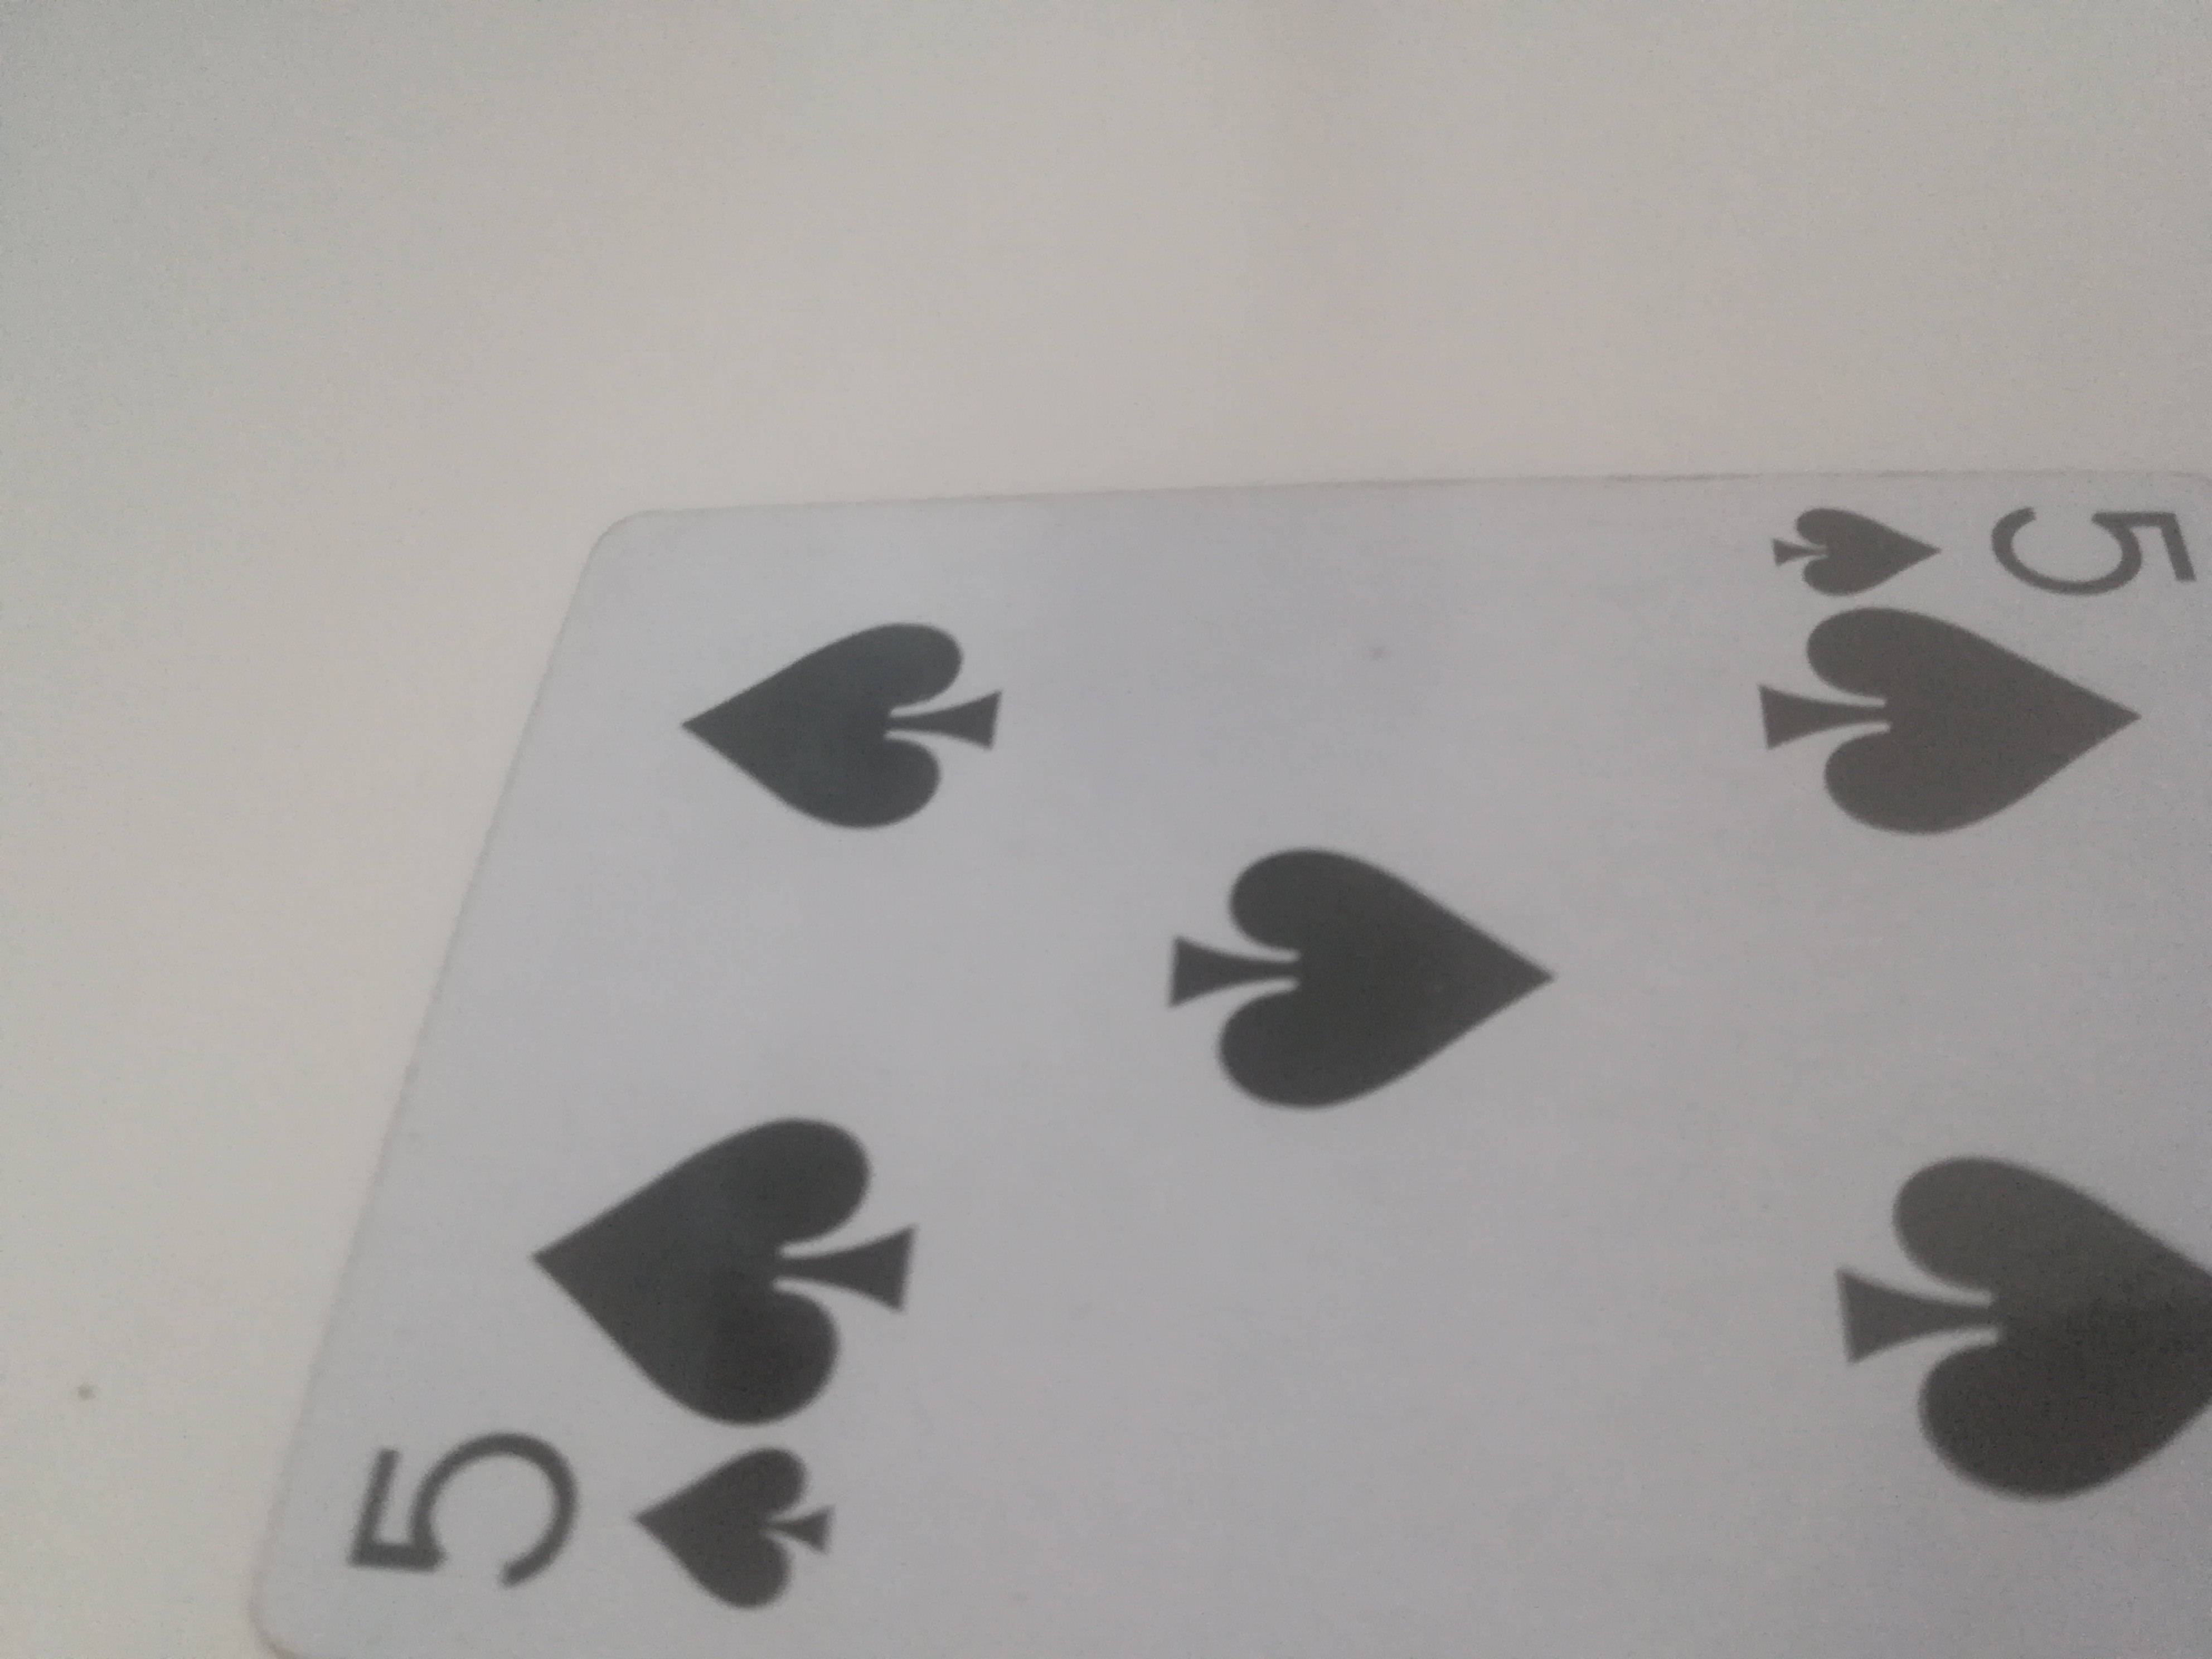5S: (240, 472, 2212, 1656)
